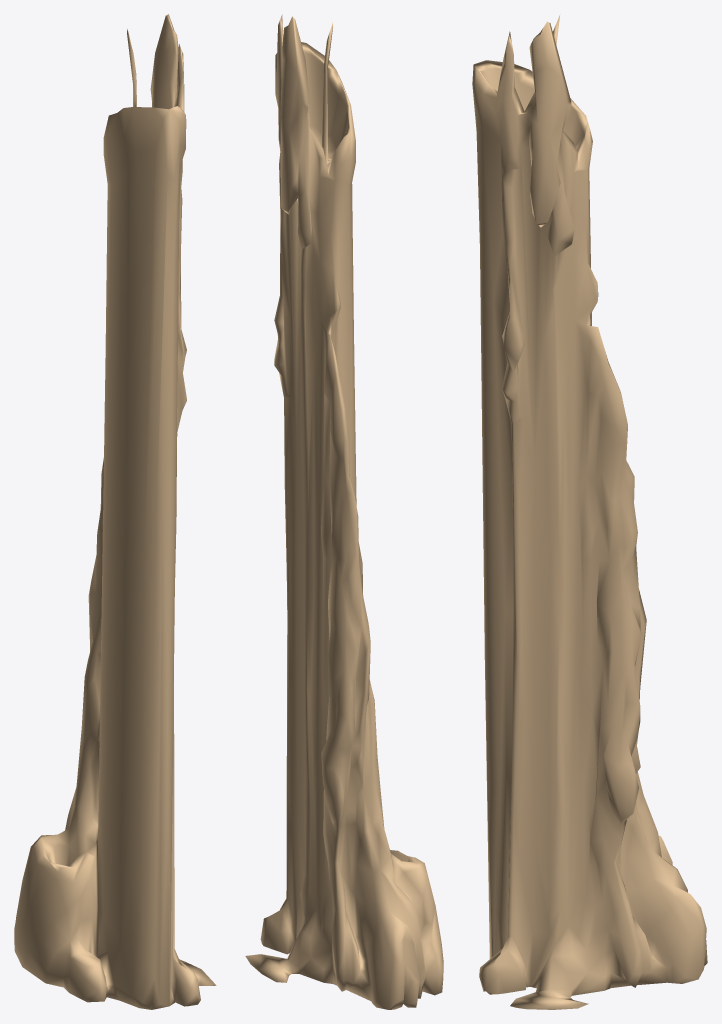
The model's file is Candles001_CandleMelted02_Geo_LOD0.gltf.
3 renders of one model, left to right at view 1: azimuth 30°, elevation 25°; view 2: azimuth 210°, elevation 25°; view 3: azimuth 270°, elevation 25°, orthographic. The views are drawn at different scales.
Parts seen in each view (by area): view 1: Candles001_CandleMelted02_Geo_LOD0.001; view 2: Candles001_CandleMelted02_Geo_LOD0.001; view 3: Candles001_CandleMelted02_Geo_LOD0.001.
Part boxes in pixels (<box>): Candles001_CandleMelted02_Geo_LOD0.001: <box>14,14,216,1009</box>; Candles001_CandleMelted02_Geo_LOD0.001: <box>245,14,443,1009</box>; Candles001_CandleMelted02_Geo_LOD0.001: <box>472,14,707,1009</box>.
Bounding box in the file's own units: 0.0527 × 0.3686 × 0.0808.
